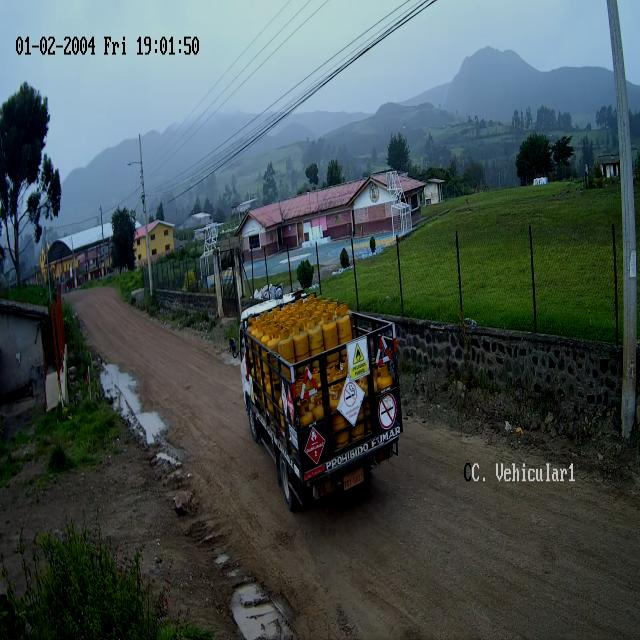TRUCK: (240, 293, 402, 512)
